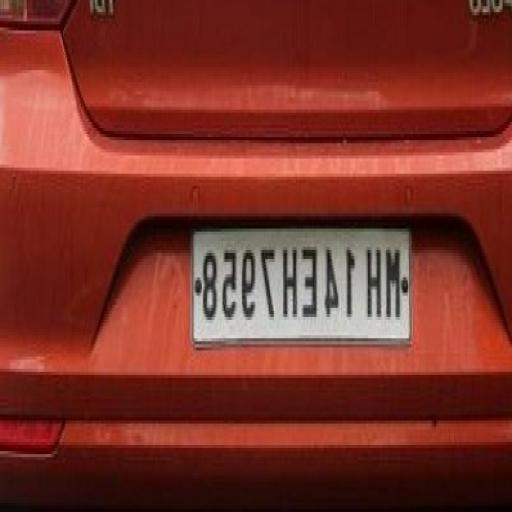License: (194, 222, 413, 338)
